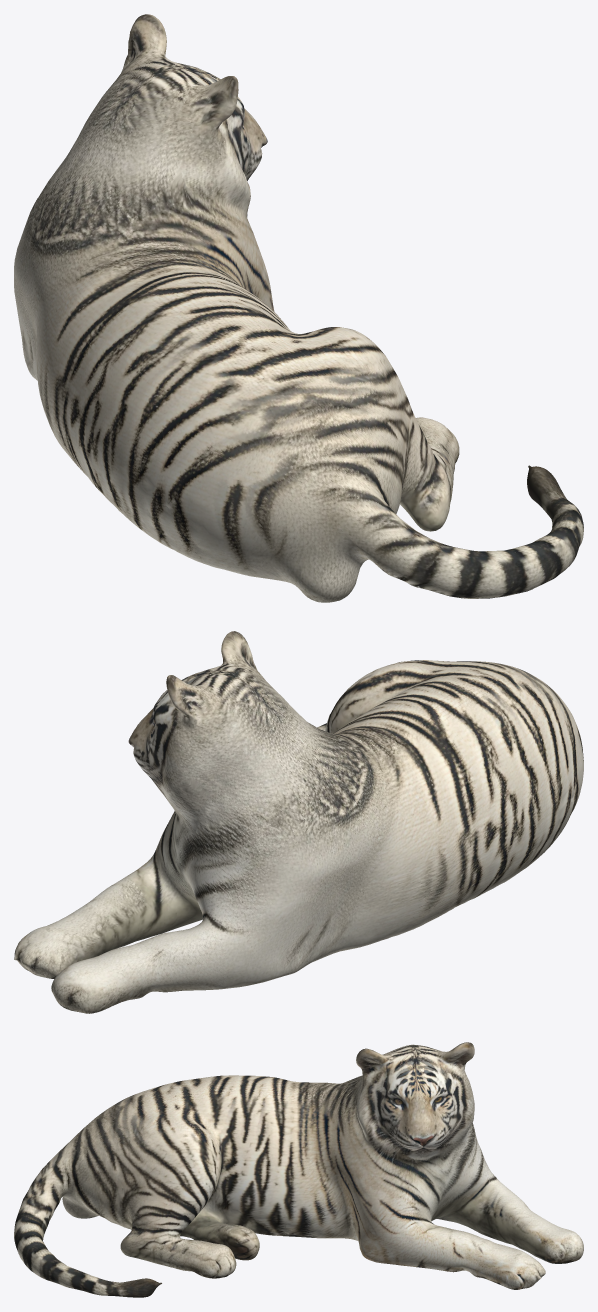
File: tigre-echado.glb
The picture shows the model from 3 angles, top to bottom: view 1: azimuth 30°, elevation 25°; view 2: azimuth 150°, elevation 25°; view 3: azimuth 270°, elevation 25°; orthographic projection. The views are drawn at different scales.
Parts seen in each view (by area): view 1: tripo_node_4095652d-0ac8-49cd-890c-aca318d0d0f3; view 2: tripo_node_4095652d-0ac8-49cd-890c-aca318d0d0f3; view 3: tripo_node_4095652d-0ac8-49cd-890c-aca318d0d0f3.
Part boxes in pixels (x1=…): tripo_node_4095652d-0ac8-49cd-890c-aca318d0d0f3: x1=14, y1=14, x2=583, y2=602; tripo_node_4095652d-0ac8-49cd-890c-aca318d0d0f3: x1=14, y1=631, x2=583, y2=1013; tripo_node_4095652d-0ac8-49cd-890c-aca318d0d0f3: x1=14, y1=1042, x2=583, y2=1297.
Size of the model in its own units: 0.4927 by 0.4056 by 0.9992.
Materials: 1 (1 with a texture image).
